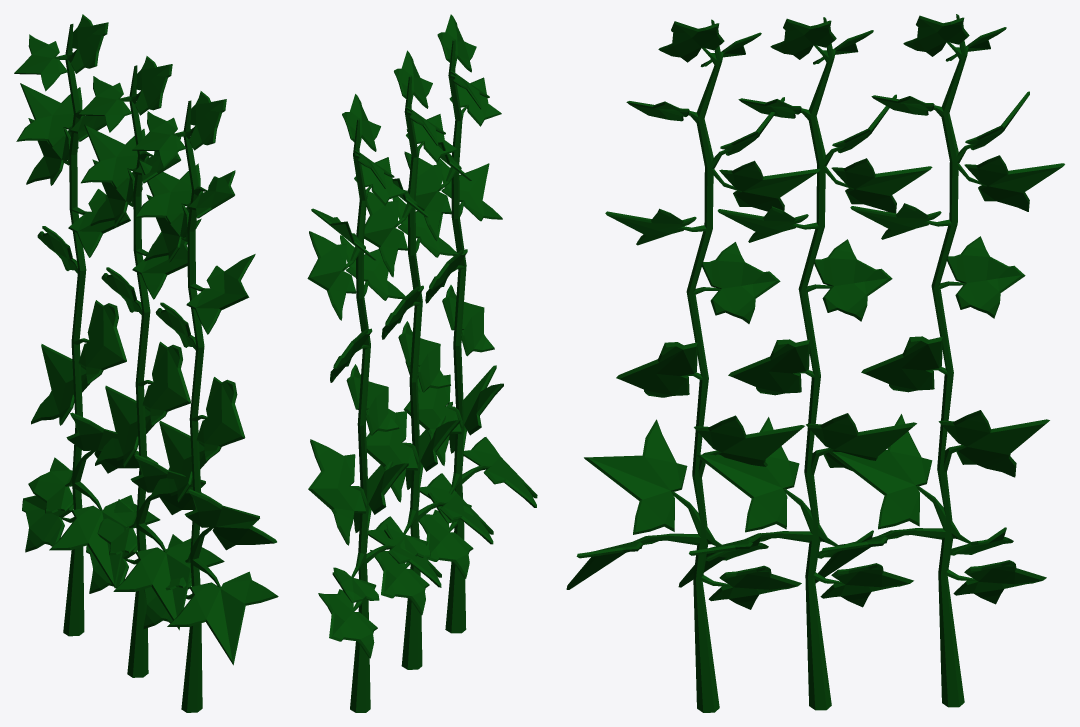
Rendered from Ivy.glb.
3 renders of one model, left to right at view 1: azimuth 30°, elevation 25°; view 2: azimuth 150°, elevation 25°; view 3: azimuth 270°, elevation 25°, orthographic. The views are drawn at different scales.
Visible parts, largest first — view 1: Ivy; view 2: Ivy; view 3: Ivy.
Part boxes in pixels (x1,y1,x2,y2): Ivy: [14, 14, 278, 712]; Ivy: [307, 14, 537, 712]; Ivy: [566, 14, 1064, 712].
Bounding box in the file's own units: 2 × 10.11 × 6.55.
